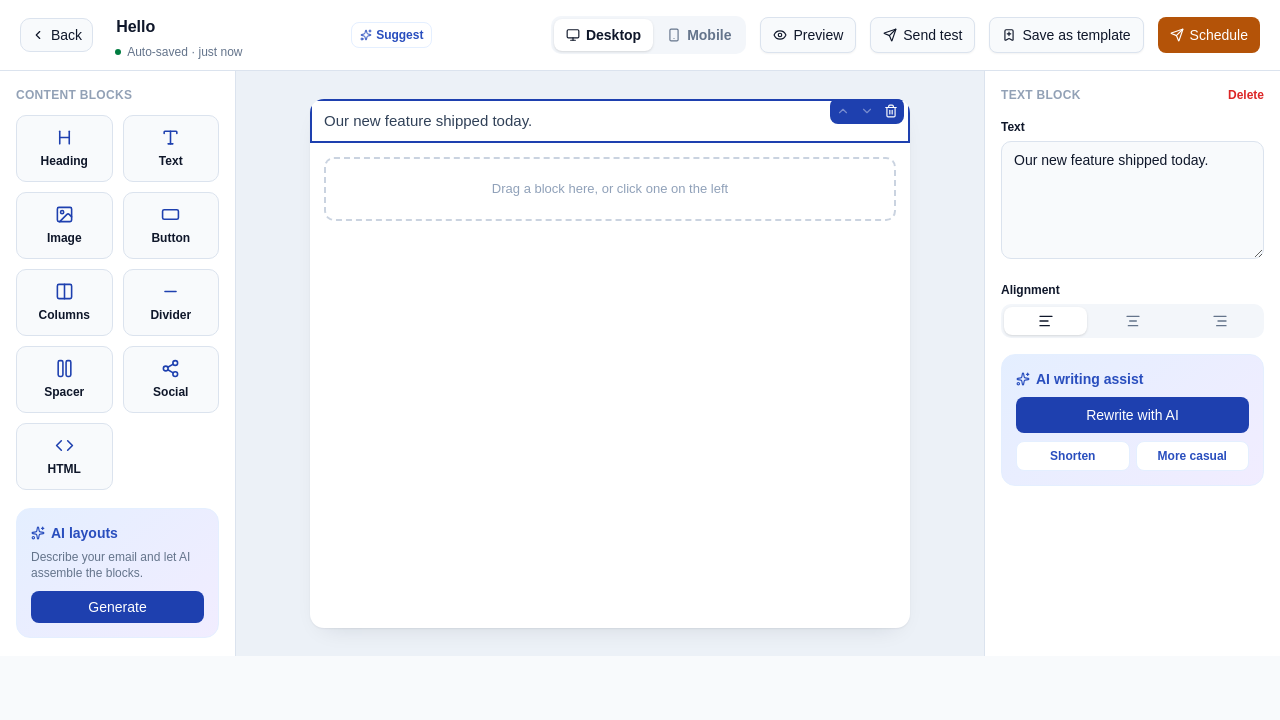
Scenario: Suggest fills the subject with a chosen option
expect the field named "Subject" holds "Hello": met, box [107,10,337,44]
Click the button "Suggest" at [392, 35], box [351,22,432,48]
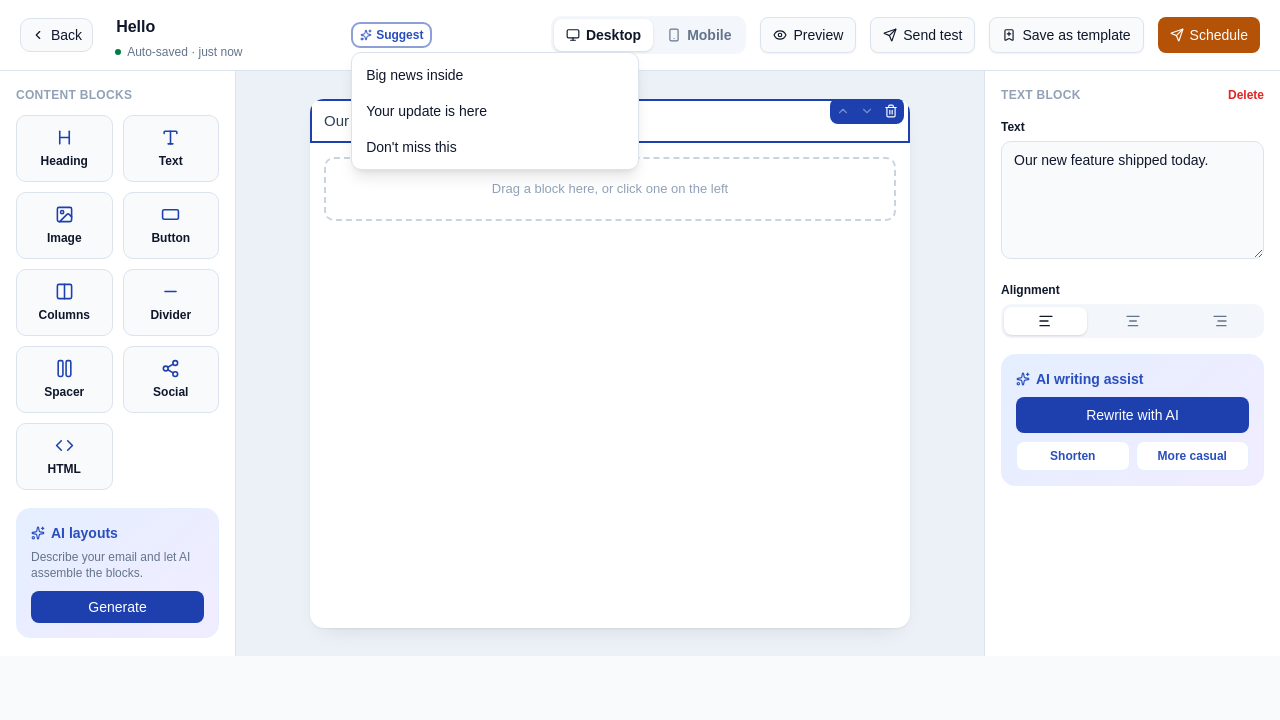
Click the button "Your update is here" at [427, 111], box [356,93,634,129]
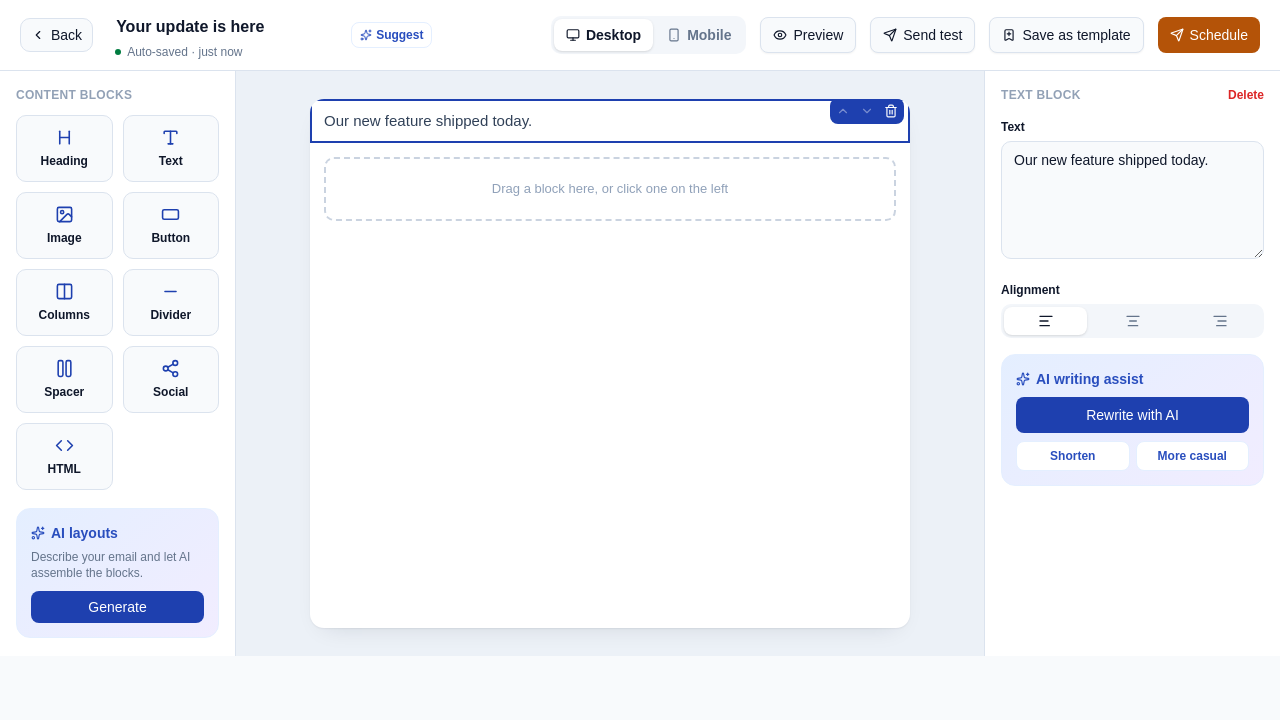
expect the field named "Subject" holds "Your update is here": met, box [107,10,337,44]
